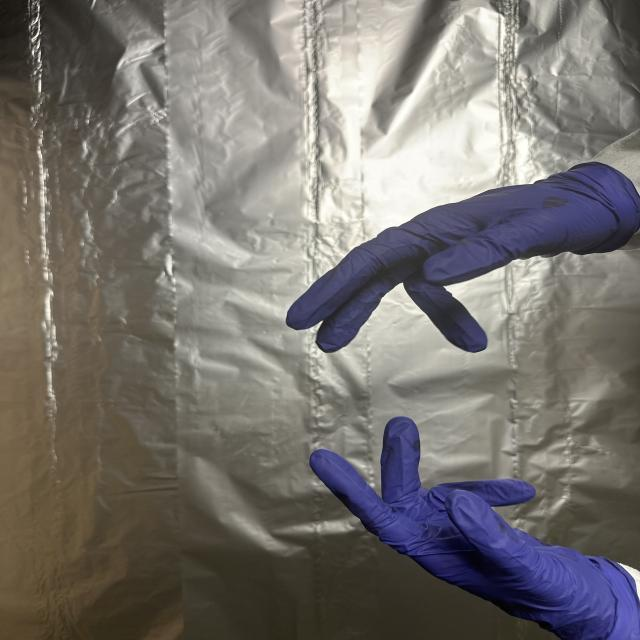gloves_contaminated: (310, 417, 640, 640), (286, 162, 640, 352)
